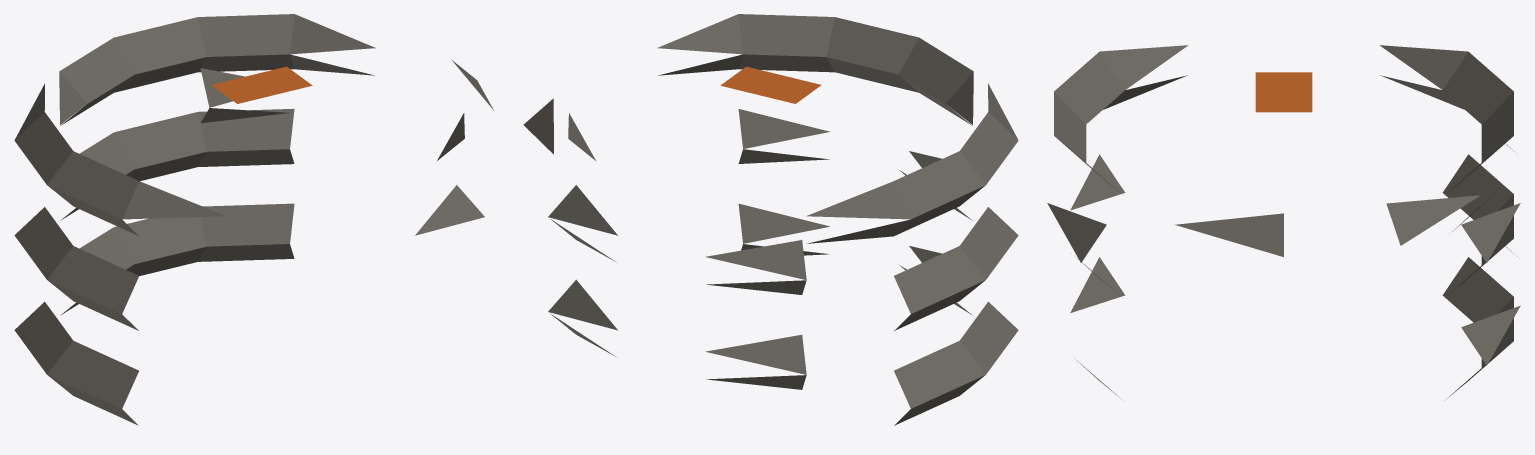
Rendered from fibercord-cable.lod.glb.
3 renders of one model, left to right at view 1: azimuth 30°, elevation 25°; view 2: azimuth 150°, elevation 25°; view 3: azimuth 270°, elevation 25°, orthographic. The views are drawn at different scales.
Visible parts, largest first — view 1: m; view 2: m; view 3: m.
Part boxes in pixels (x1=…): m: x1=14, y1=14, x2=493, y2=425; m: x1=523, y1=14, x2=1018, y2=425; m: x1=1047, y1=45, x2=1520, y2=398.
Size of the model in its own units: 0.1261 by 0.0741 by 0.1111.
